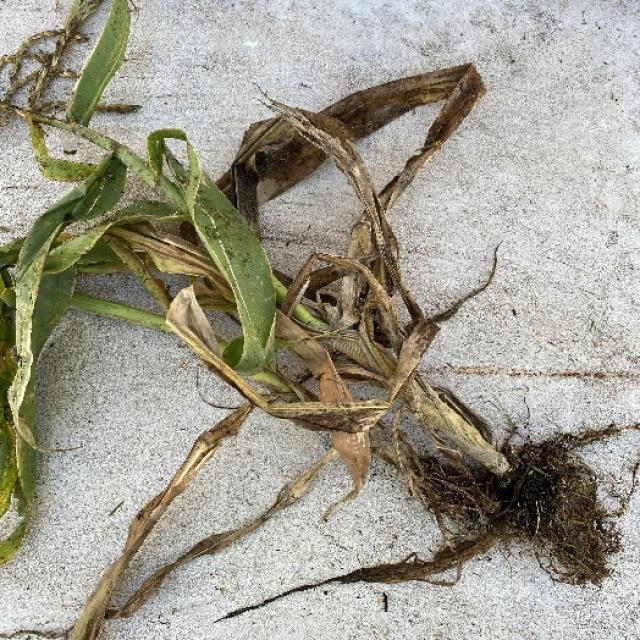organik: (0, 16, 600, 614)
